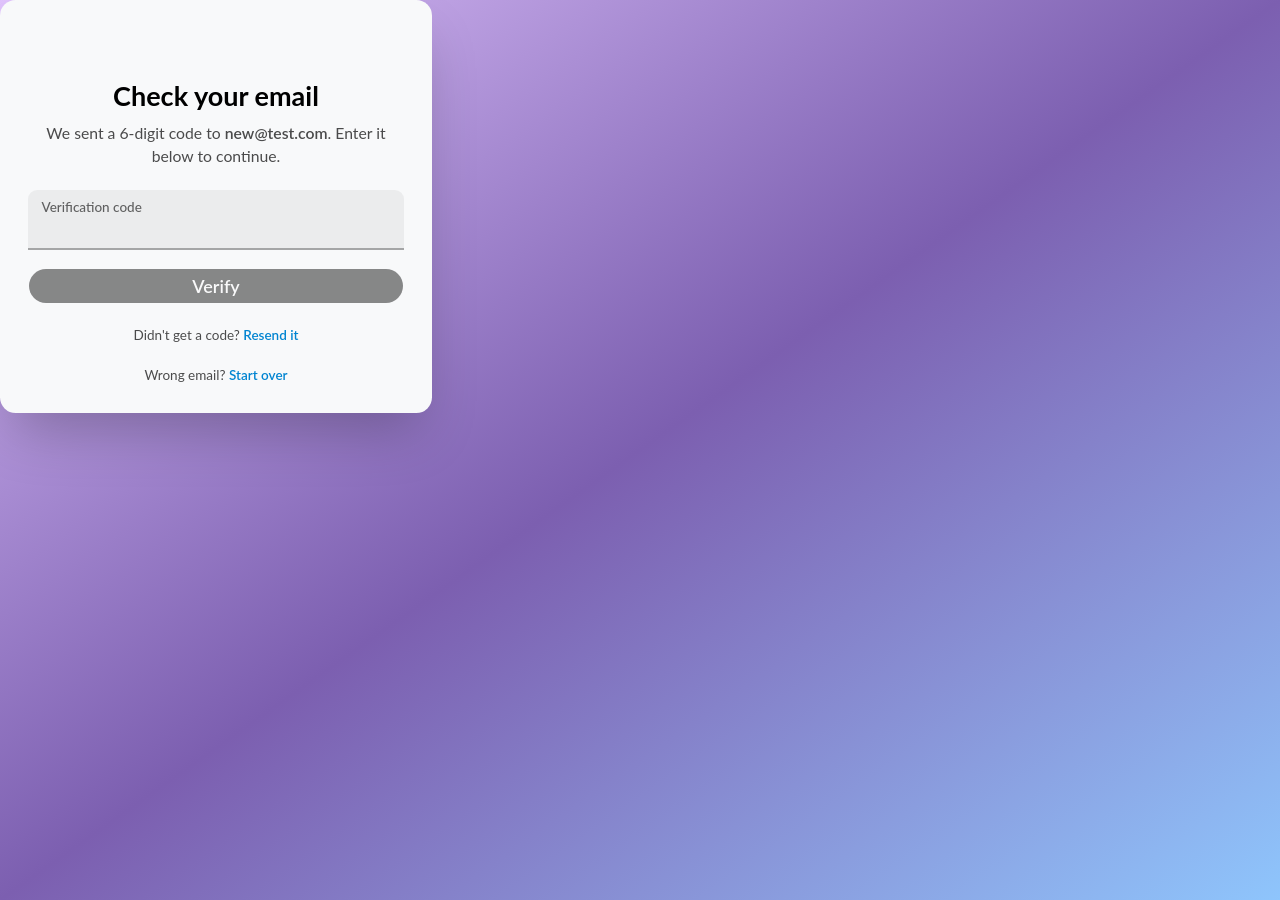
SignupVerify (signup steps 2-4: code, details, password) › resends the code on request
Expected: the heading "Check your email" is shown, [113,78,319,112]
Click the button "Resend it" at (271, 336), box [243,327,298,345]
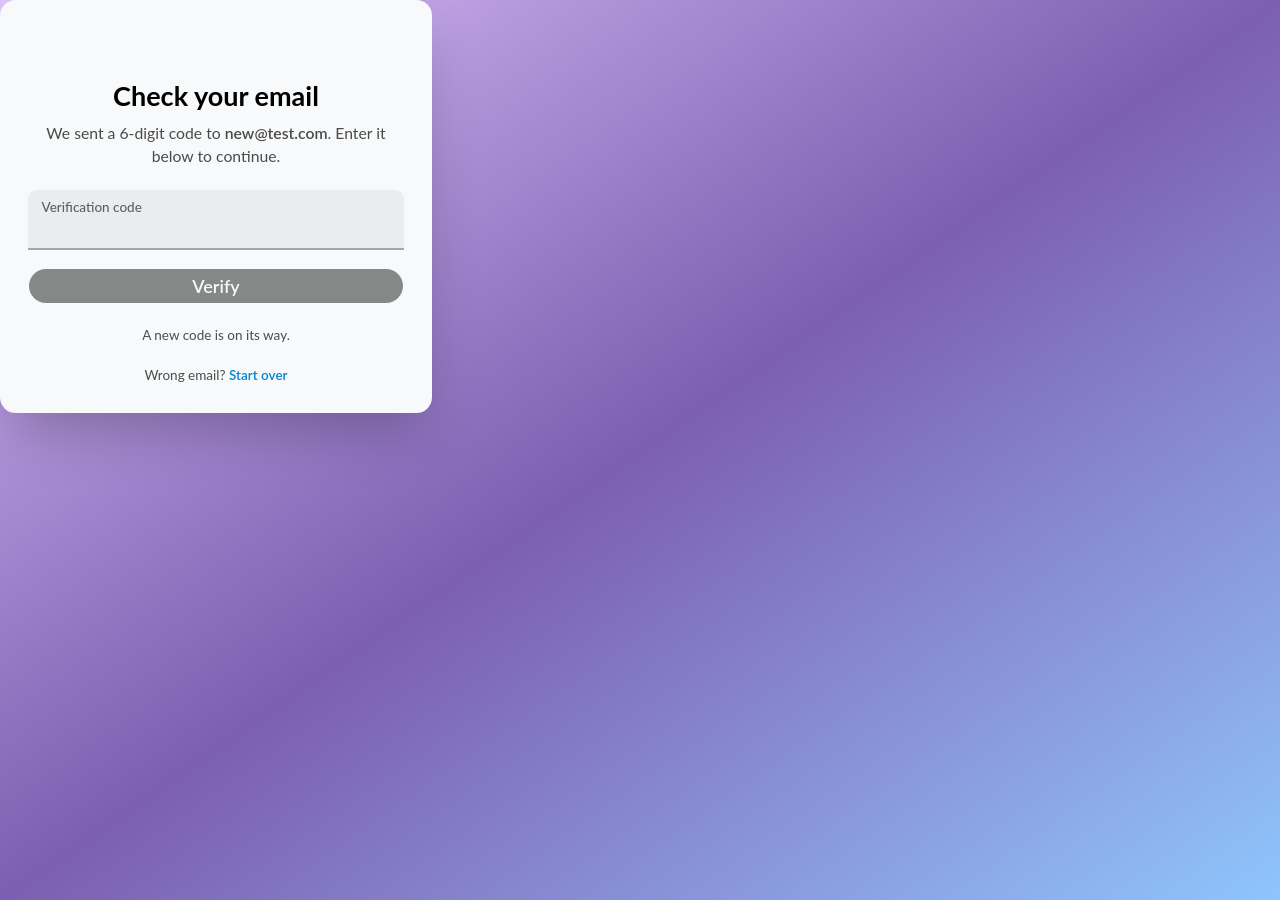
Now the text "A new code is on its way." is shown, box [142,327,290,343]
